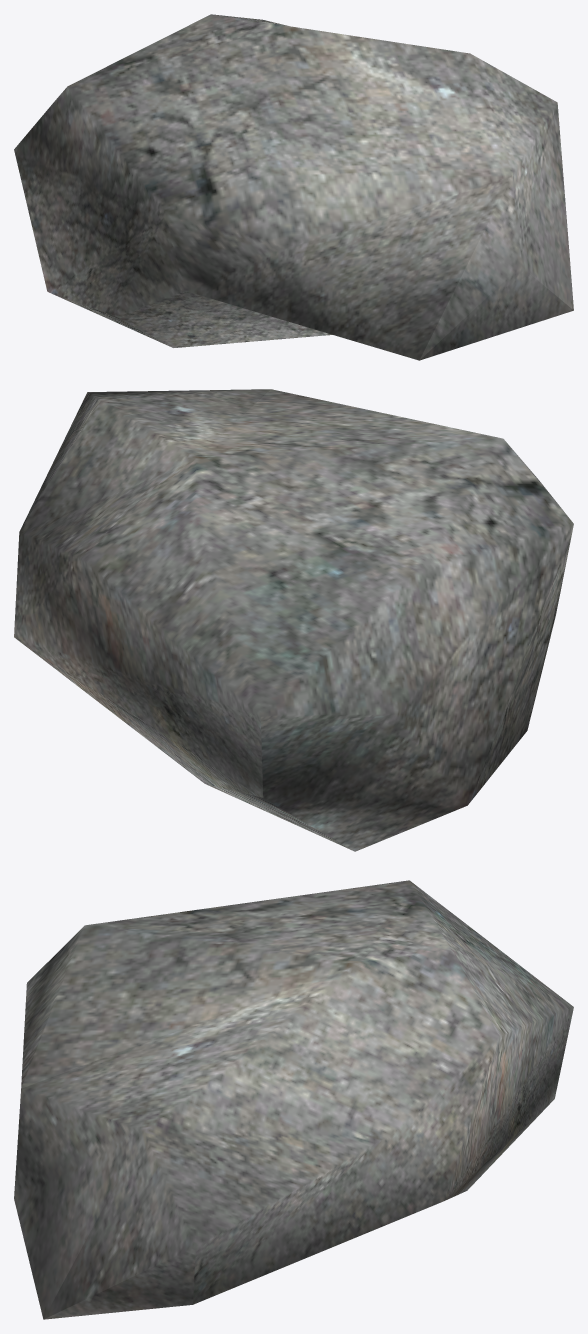
Rendered from rock9.glb.
The picture shows the model from 3 angles, top to bottom: view 1: azimuth 30°, elevation 25°; view 2: azimuth 150°, elevation 25°; view 3: azimuth 270°, elevation 25°; orthographic projection. The views are drawn at different scales.
Parts seen in each view (by area): view 1: rock9; view 2: rock9; view 3: rock9.
Part boxes in pixels (box(x1,y1,x2,y2)): rock9: box(14, 14, 573, 360); rock9: box(14, 389, 573, 851); rock9: box(14, 880, 573, 1319).
Bounding box in the file's own units: 1.93 × 1.13 × 1.85.
1 material, 1 textured.
